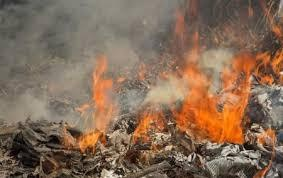fire: (102, 8, 280, 146), (63, 54, 138, 151)
